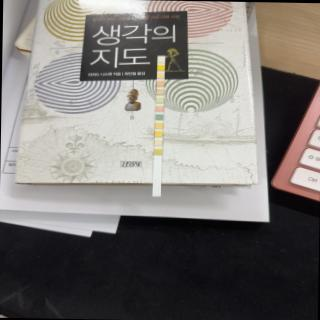mark: (156, 88, 163, 95), (154, 148, 162, 154), (156, 80, 164, 86), (156, 72, 164, 78), (155, 114, 163, 120), (154, 122, 162, 128), (154, 130, 162, 136), (154, 140, 162, 146), (157, 64, 164, 70), (156, 96, 163, 102), (156, 105, 163, 111), (157, 57, 165, 62)
